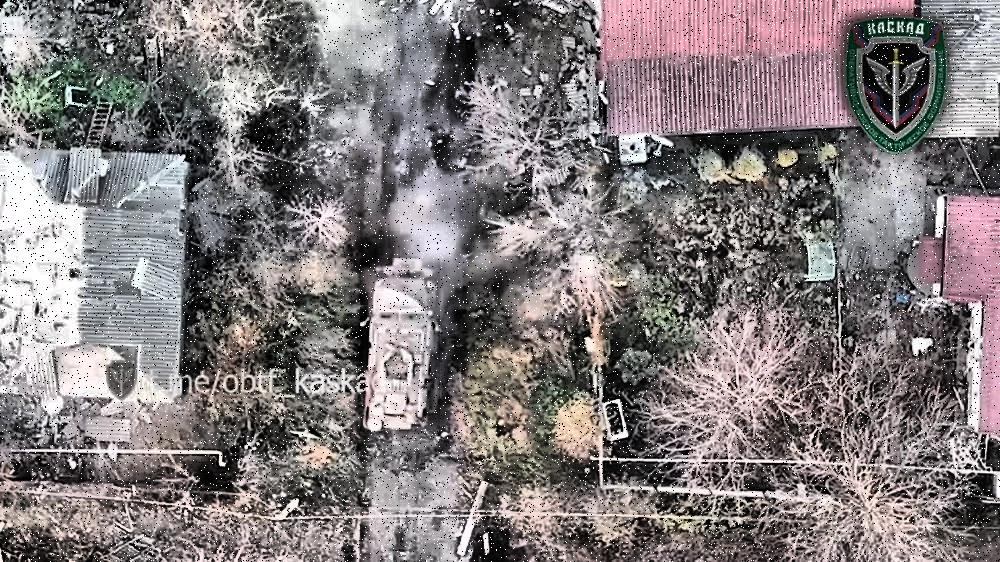military-vehicle: (361, 259, 441, 435)
